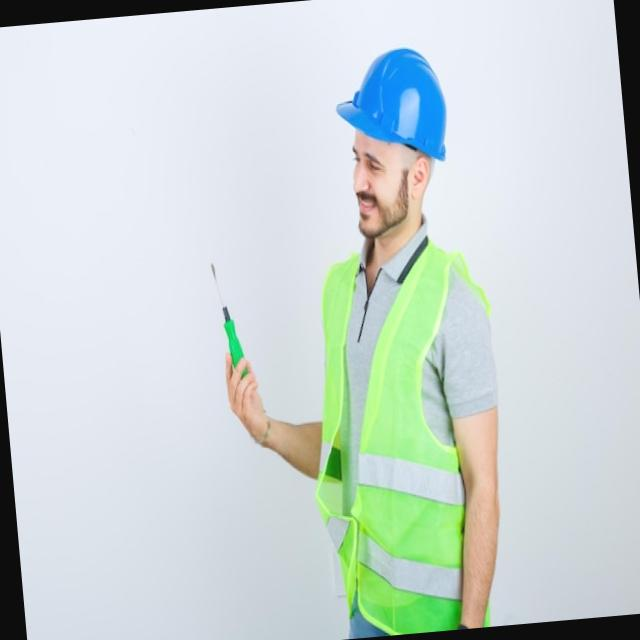helmet: (321, 36, 454, 182)
no-goggles: (340, 144, 418, 184)
vest: (261, 205, 532, 640)
